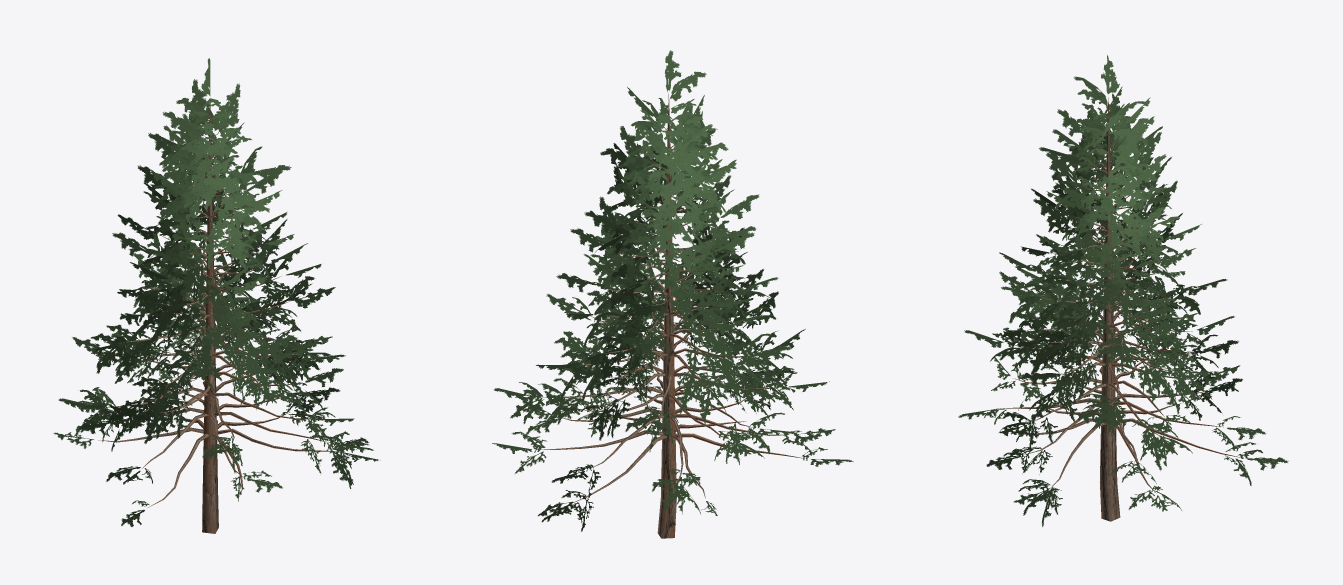
Rendered from spruce_0.gltf.
3 renders of one model, left to right at view 1: azimuth 30°, elevation 25°; view 2: azimuth 150°, elevation 25°; view 3: azimuth 270°, elevation 25°, orthographic. The views are drawn at different scales.
Parts seen in each view (by area): view 1: spruce_0; view 2: spruce_0; view 3: spruce_0.
Boxes of the visible parts, x1=… form: spruce_0: x1=53, y1=58, x2=380, y2=533; spruce_0: x1=492, y1=50, x2=853, y2=538; spruce_0: x1=958, y1=55, x2=1288, y2=526.
Bounding box in the file's own units: 4.39 × 6.13 × 4.55.
2 materials, 2 textured.
